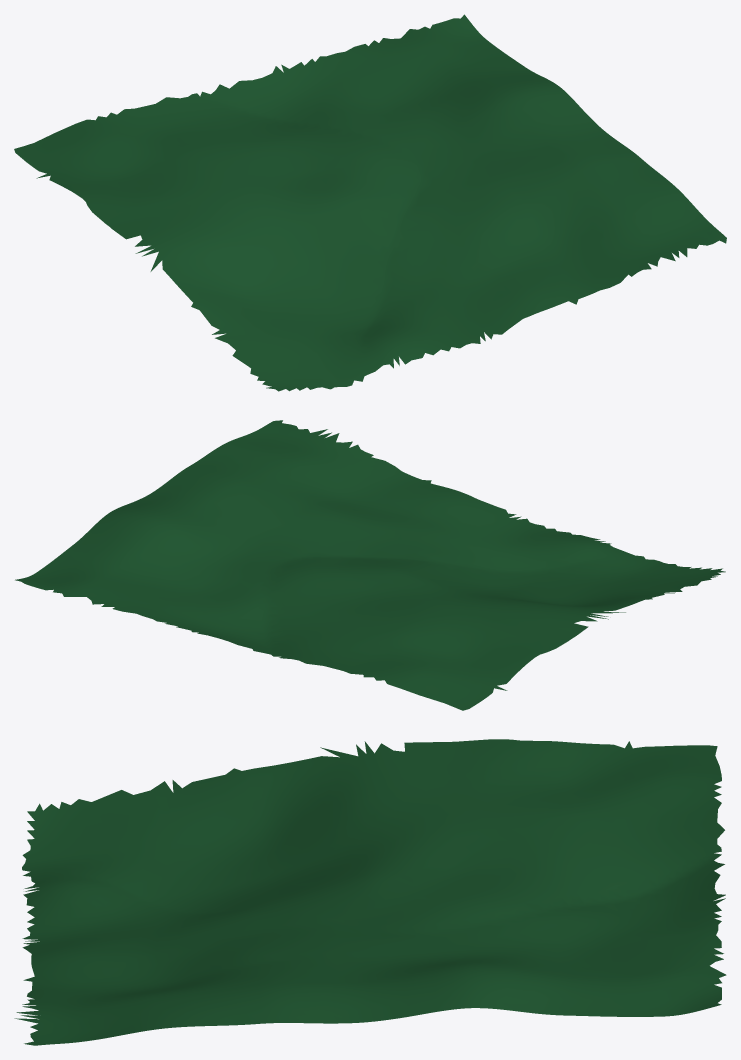
Rendered from payo_land_x3_y1.glb.
The picture shows the model from 3 angles, top to bottom: view 1: azimuth 30°, elevation 25°; view 2: azimuth 150°, elevation 25°; view 3: azimuth 270°, elevation 25°; orthographic projection. The views are drawn at different scales.
Visible parts, largest first — view 1: payo_land_x3_y1; view 2: payo_land_x3_y1; view 3: payo_land_x3_y1.
Boxes of the visible parts, left/top/right/bottom form: payo_land_x3_y1: left=14, top=14, right=726, bottom=391; payo_land_x3_y1: left=15, top=420, right=725, bottom=710; payo_land_x3_y1: left=14, top=739, right=726, bottom=1045.
Size of the model in its own units: 262 by 45.22 by 265.
